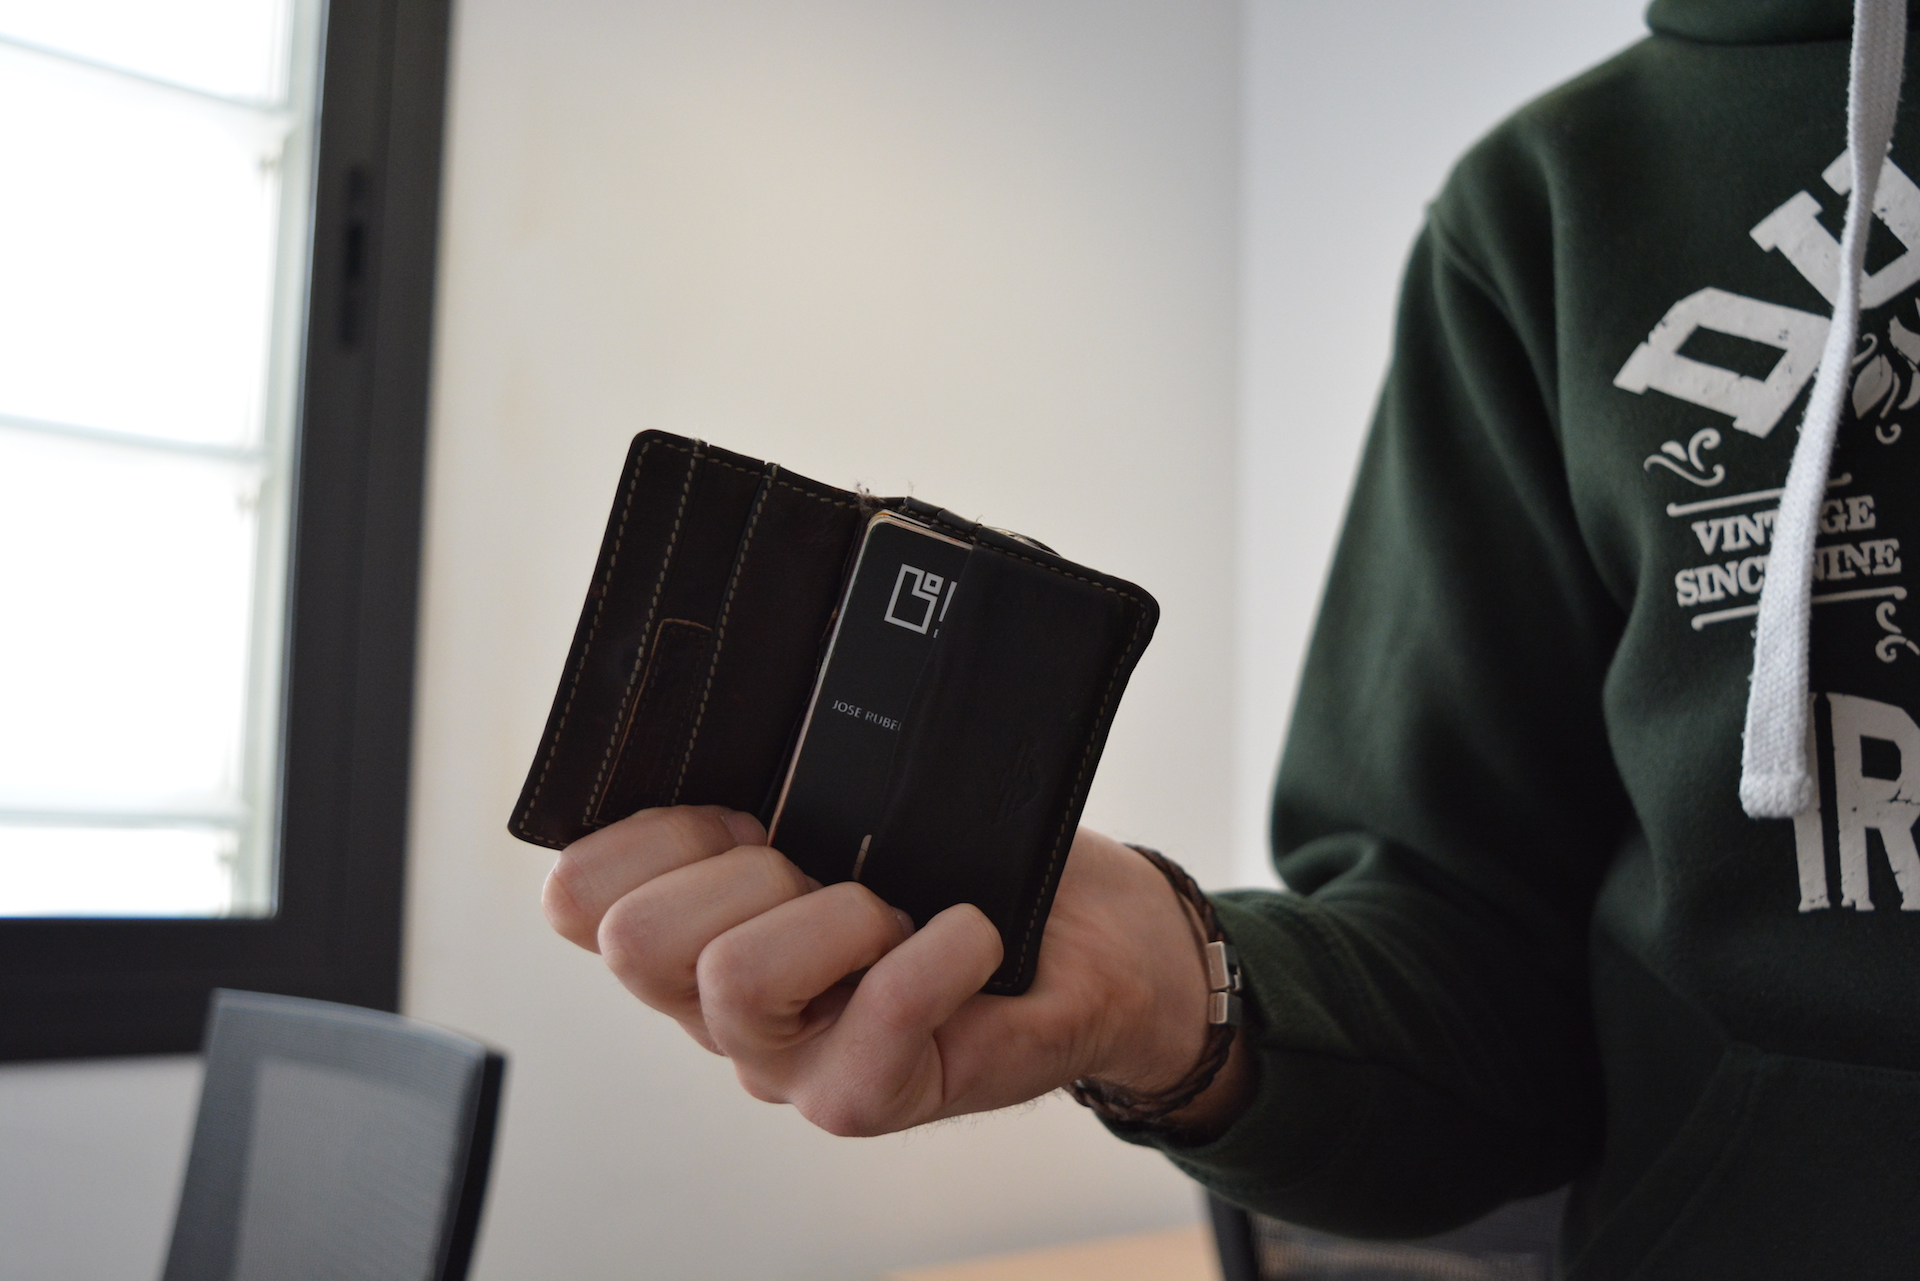monedero: (505, 425, 1164, 1004)
